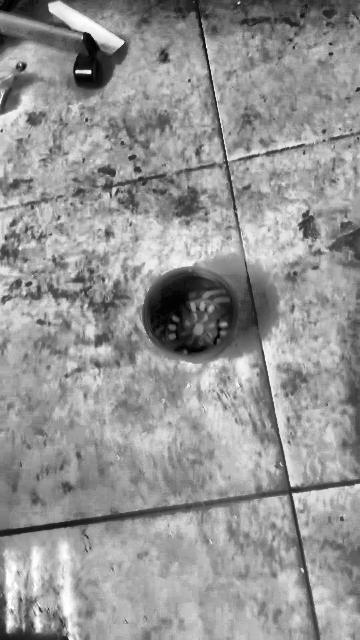pot: (143, 270, 237, 362)
